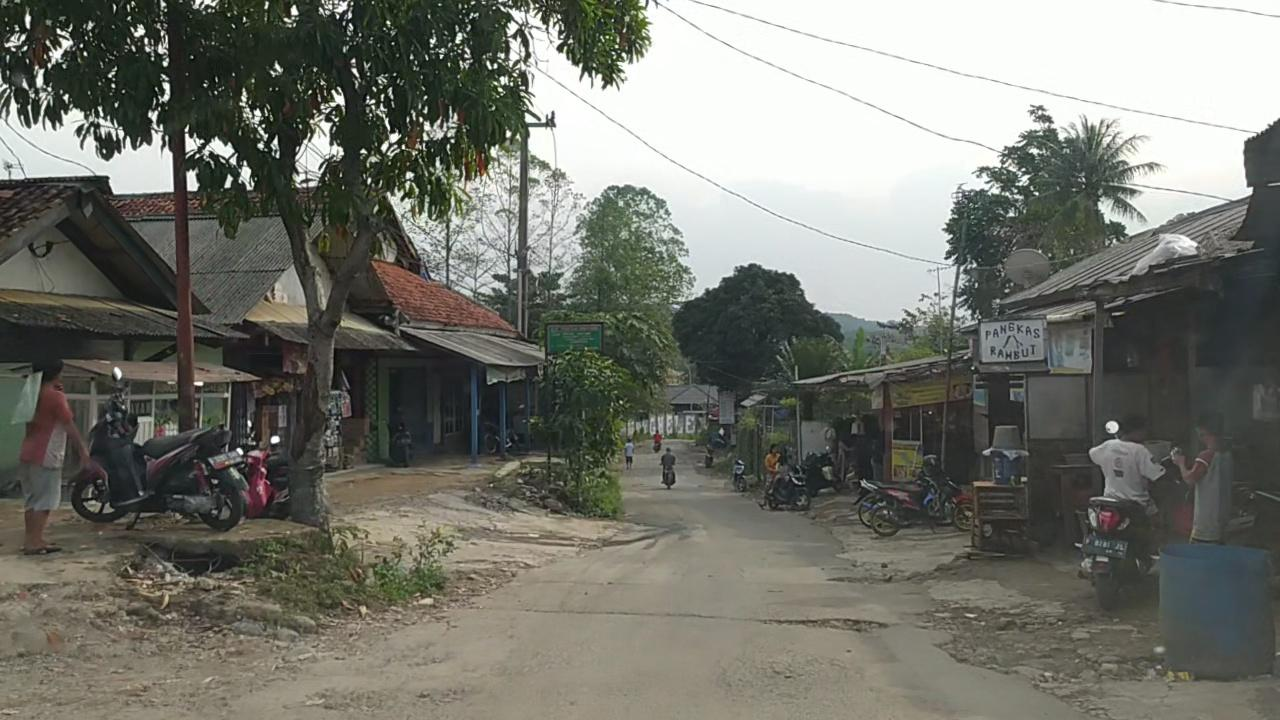pothole: (925, 604, 1107, 720), (761, 617, 887, 636), (827, 575, 899, 584)
